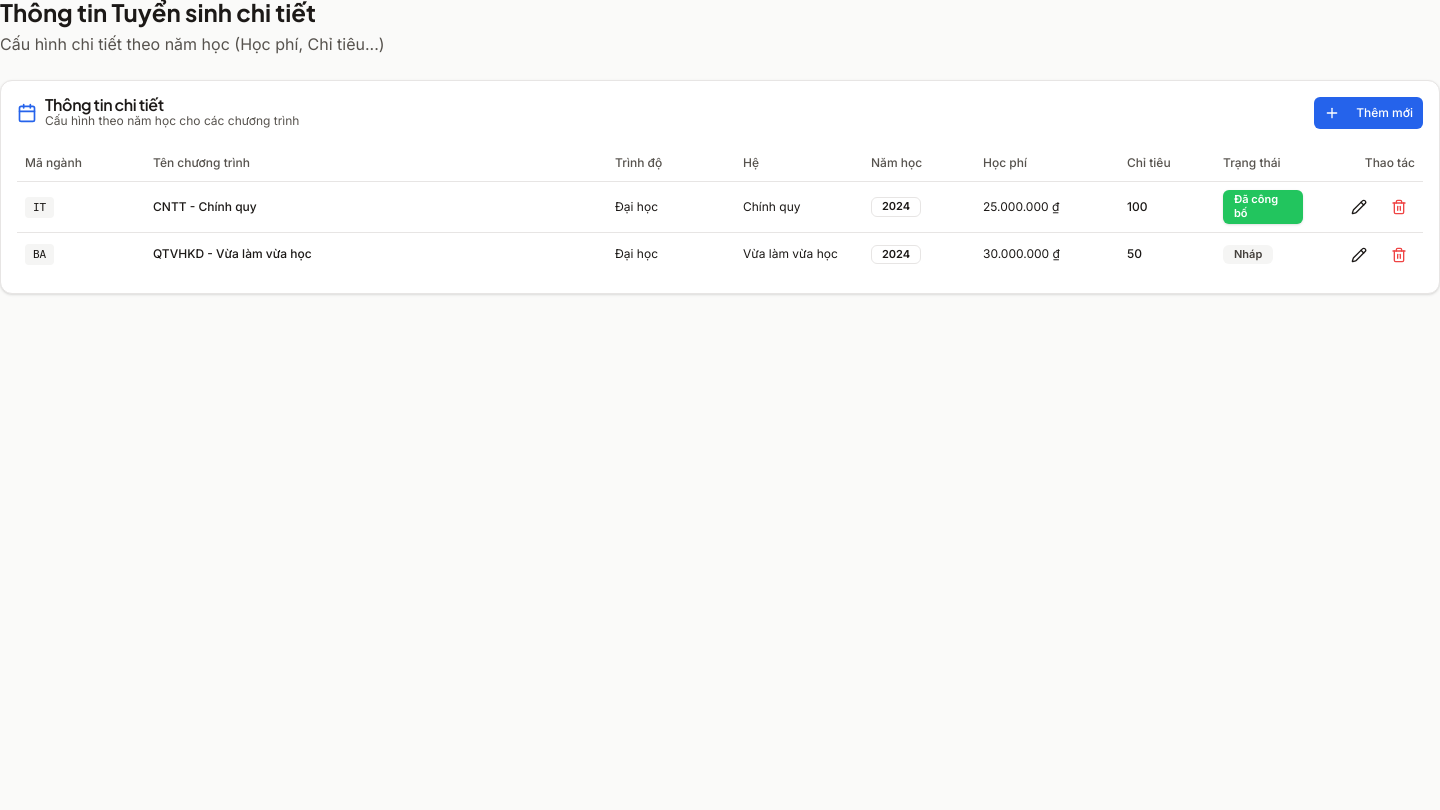
Test: AcademicInfoPanel › BUG-09: should close delete dialog even when deletion fails
# Open delete dialog for second row
Click the 5th button at {"x": 1399, "y": 254}, box [1383,240,1415,268]
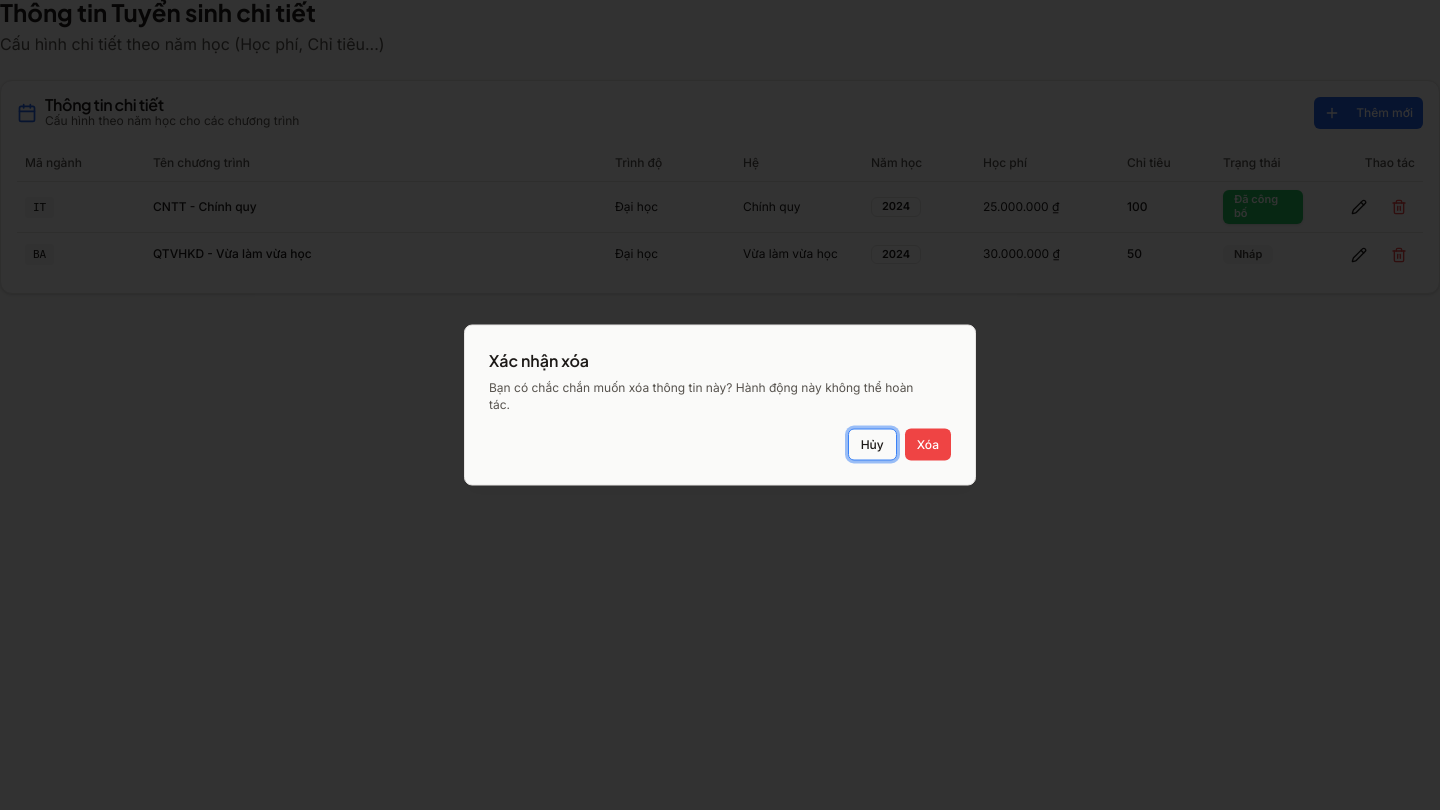
Check: the dialog is shown, box [464,324,976,486]
# Confirm deletion
Click the button "Xóa" at {"x": 928, "y": 444}, box [905,428,951,460]
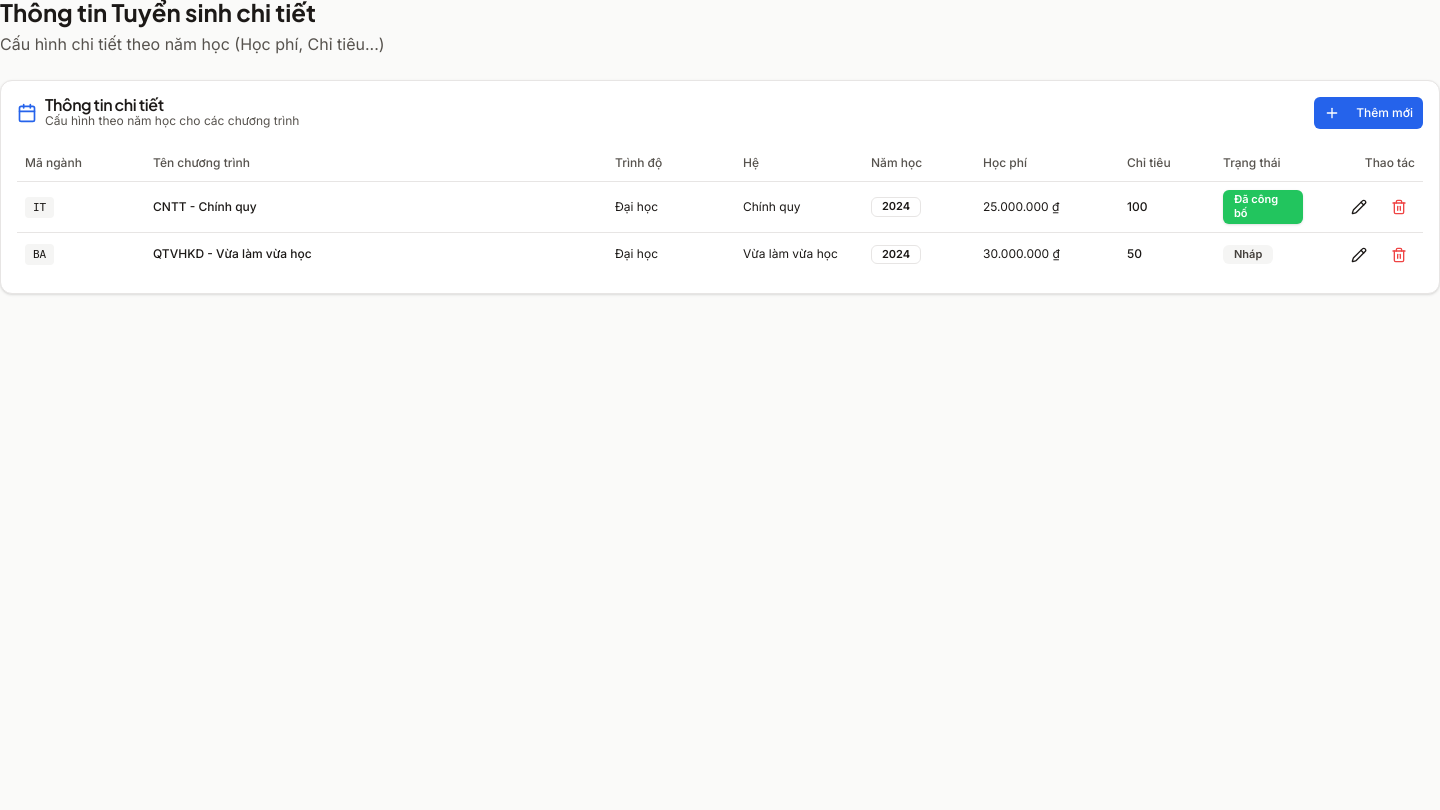
Check: the dialog is gone
